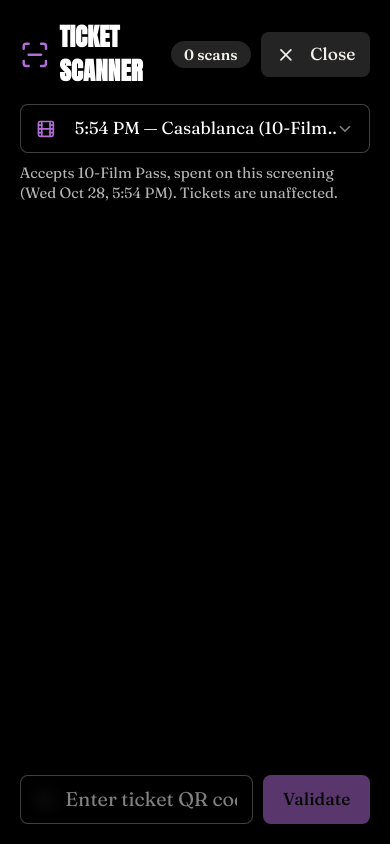
Scenario: TicketScanner - GA, event, and concert tickets › scopes the scan to the selected screening
This screenshot has width=390, height=844.
Check: the text "Accepts 10-Film Pass, spent on this screening" is shown, box [20,163,370,203]
Type "QR-SCOPED" into the field with placeholder "Enter ticket QR code...". click: [137, 799]
box: [20,775,253,824]
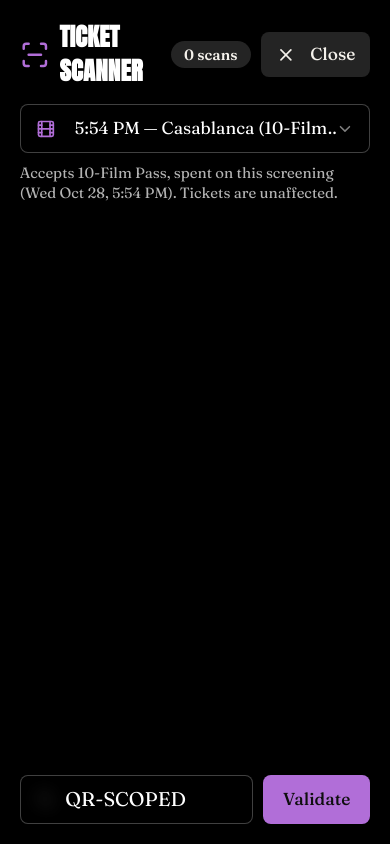
Click the button "Validate". click: [317, 799]
box: [263,775,370,824]
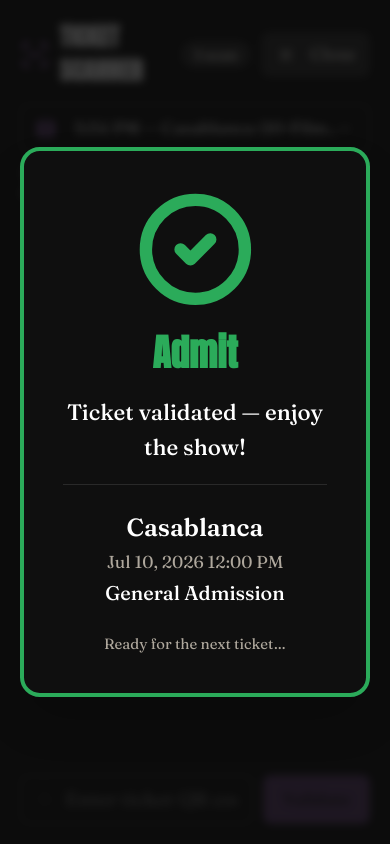
Check: the text "Ticket validated — enjoy the show!" is shown, box [63,395,327,464]
